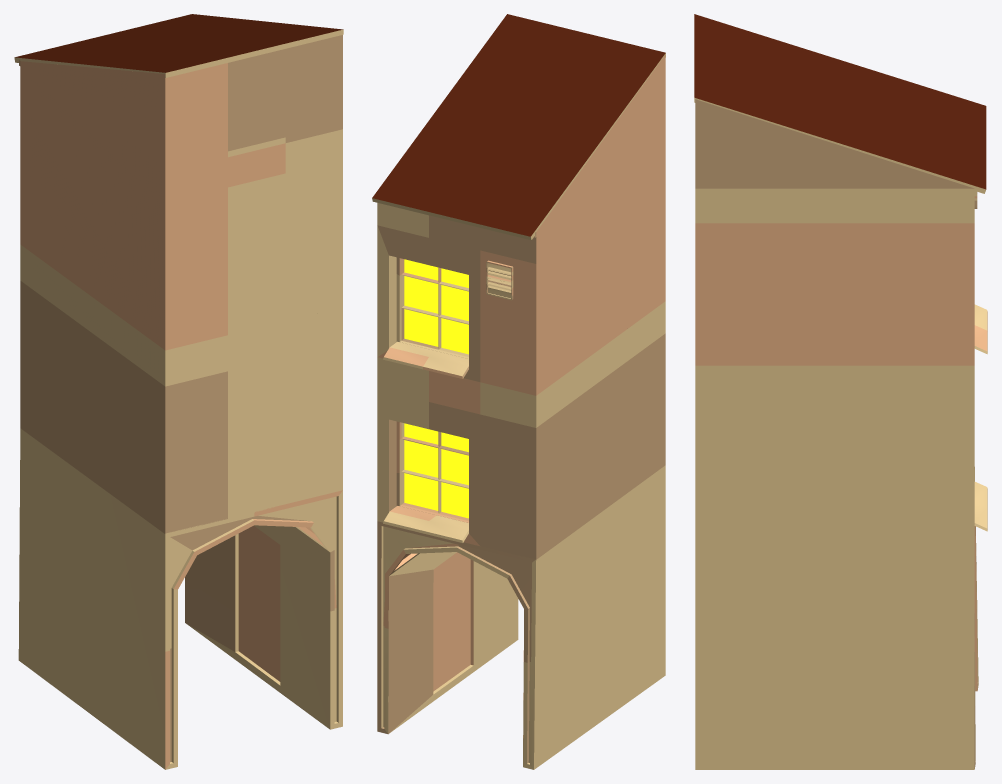
Rendered from house3 1.fbx.
The picture shows the model from 3 angles, left to right: view 1: azimuth 30°, elevation 25°; view 2: azimuth 150°, elevation 25°; view 3: azimuth 270°, elevation 25°; orthographic projection. The views are drawn at different scales.
Parts seen in each view (by area): view 1: pasted__polySurface7, polySurface9, polySurface10, pCube11; view 2: polySurface9, pasted__polySurface7, polySurface10, pCube11, pCube12; view 3: polySurface9, pasted__polySurface7, polySurface10, pCube11.
Part boxes in pixels (box(x1,y1,x2,y2)): pasted__polySurface7: box(19, 35, 342, 350); polySurface9: box(18, 428, 342, 769); polySurface10: box(20, 244, 342, 533); pCube11: box(14, 14, 343, 77); polySurface9: box(377, 465, 665, 769); pasted__polySurface7: box(377, 55, 665, 395); polySurface10: box(377, 301, 665, 559); pCube11: box(372, 14, 665, 240); pCube12: box(486, 260, 513, 300); polySurface9: box(695, 467, 978, 769); pasted__polySurface7: box(695, 99, 987, 365); polySurface10: box(695, 365, 987, 542); pCube11: box(694, 14, 986, 193).
Size of the model in its own units: 3.92 by 14.71 by 5.81.
